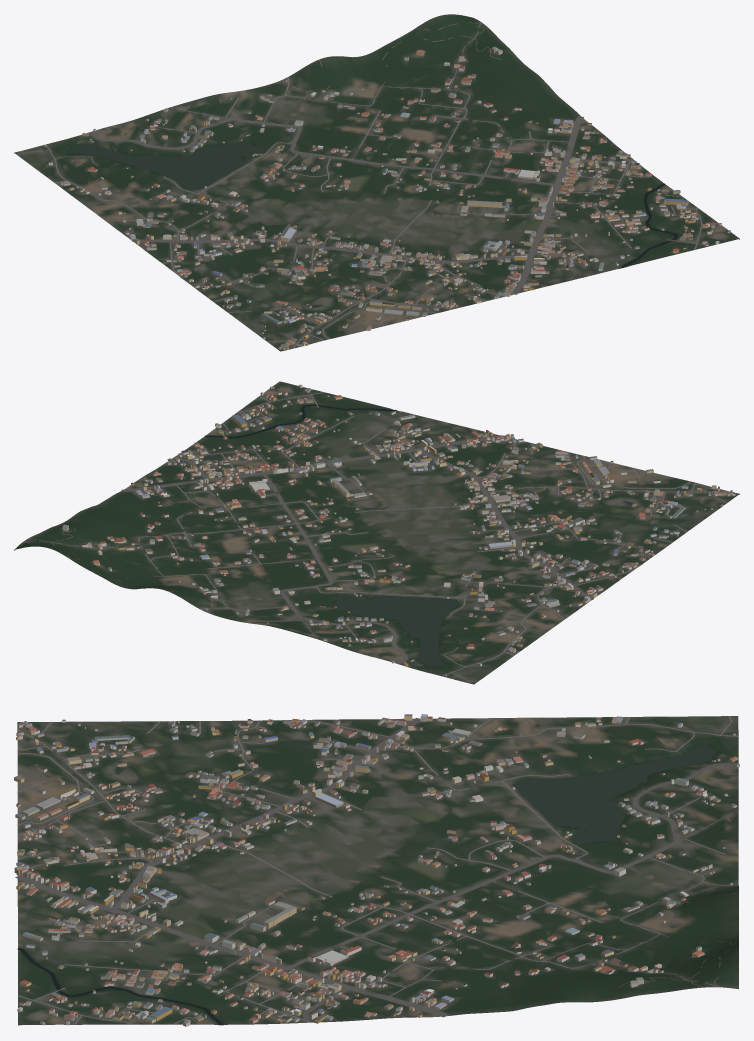
The picture shows the model from 3 angles, top to bottom: view 1: azimuth 30°, elevation 25°; view 2: azimuth 150°, elevation 25°; view 3: azimuth 270°, elevation 25°; orthographic projection. The views are drawn at different scales.
Parts seen in each view (by area): view 1: ground, buildings, roads, water; view 2: ground, buildings, roads, water; view 3: ground, buildings, roads, water.
Part boxes in pixels (x1,y1,x2,y2): ground: (14,14,739,351); buildings: (44,46,730,349); roads: (17,21,718,348); water: (67,141,678,307); ground: (14,381,739,684); buildings: (62,384,735,676); roads: (21,392,727,682); water: (204,404,633,666); ground: (17,716,738,1025); buildings: (14,714,739,1026); roads: (15,716,738,1024); water: (17,743,715,1025).
Size of the model in its own units: 1410 by 111 by 1412.
